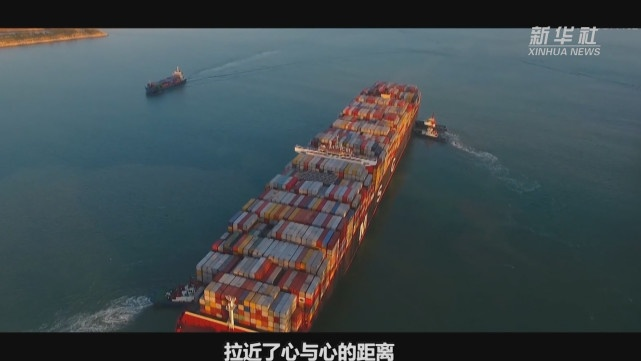Cargoship: (167, 80, 422, 333), (143, 68, 186, 94)
otherboat: (166, 279, 203, 307), (418, 126, 449, 145), (419, 115, 450, 132)
